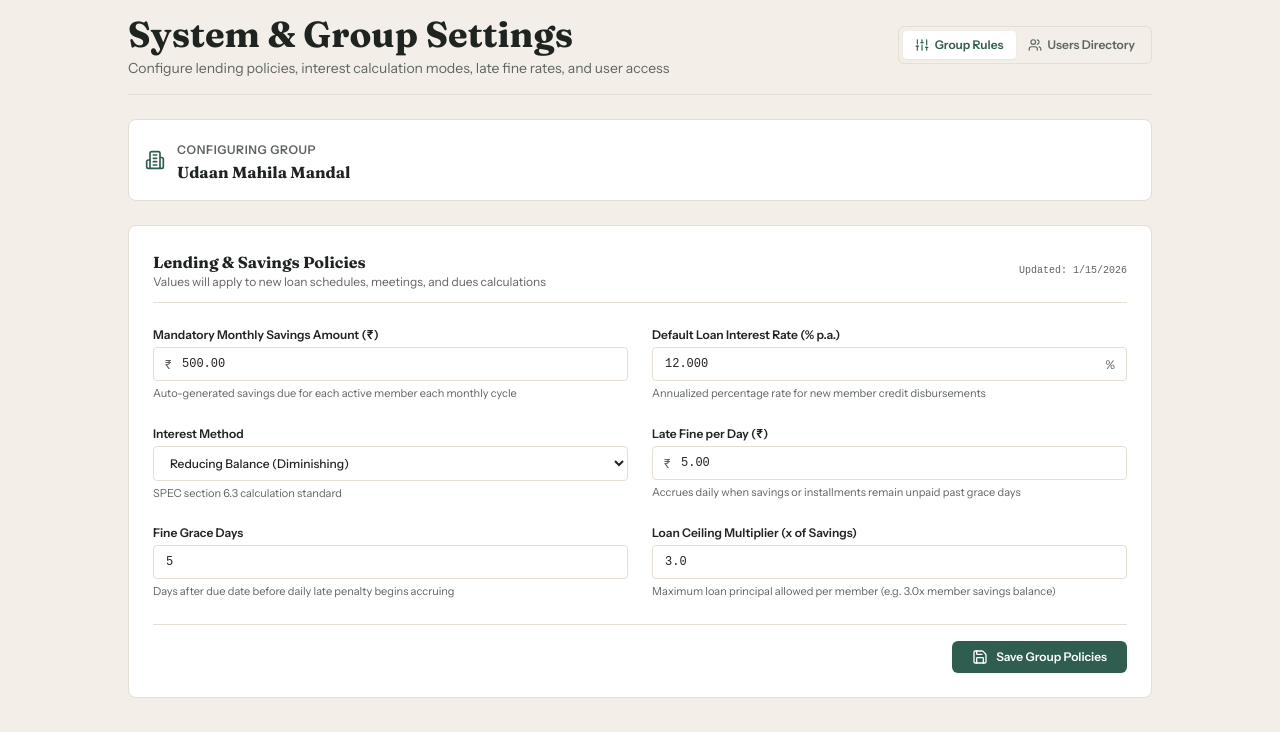
Screen 12: System & Group Settings › switches to Users Directory tab for ADMIN and lists users
Expected: the text "Users Directory" is shown, [1048,37,1135,53]
What coordinates should you click on to do the following:
click the button "Users Directory"
I would click on:
 (1081, 45)
Its box is [1016,31,1147,59].
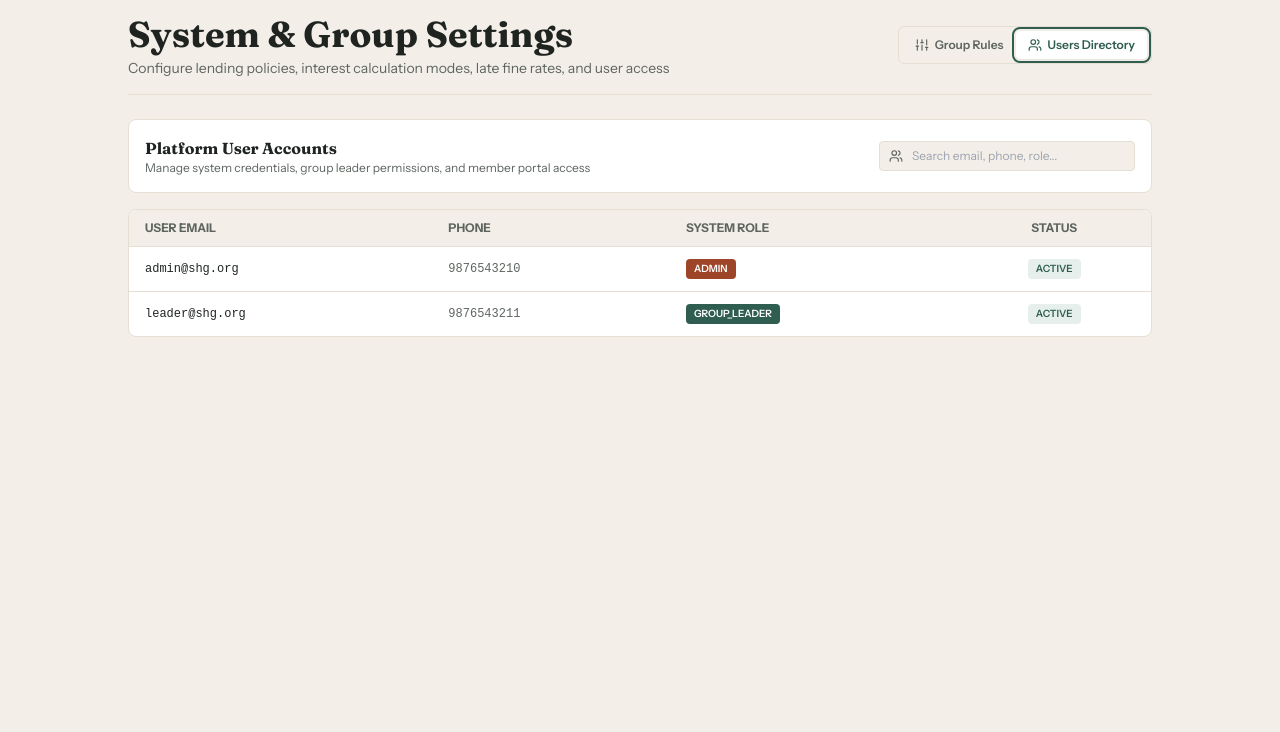
Now the heading "Platform User Accounts" is shown, box [145,138,337,158]
Now the text "admin@shg.org" is shown, box [129,246,432,292]
Now the text "leader@shg.org" is shown, box [129,292,432,336]
